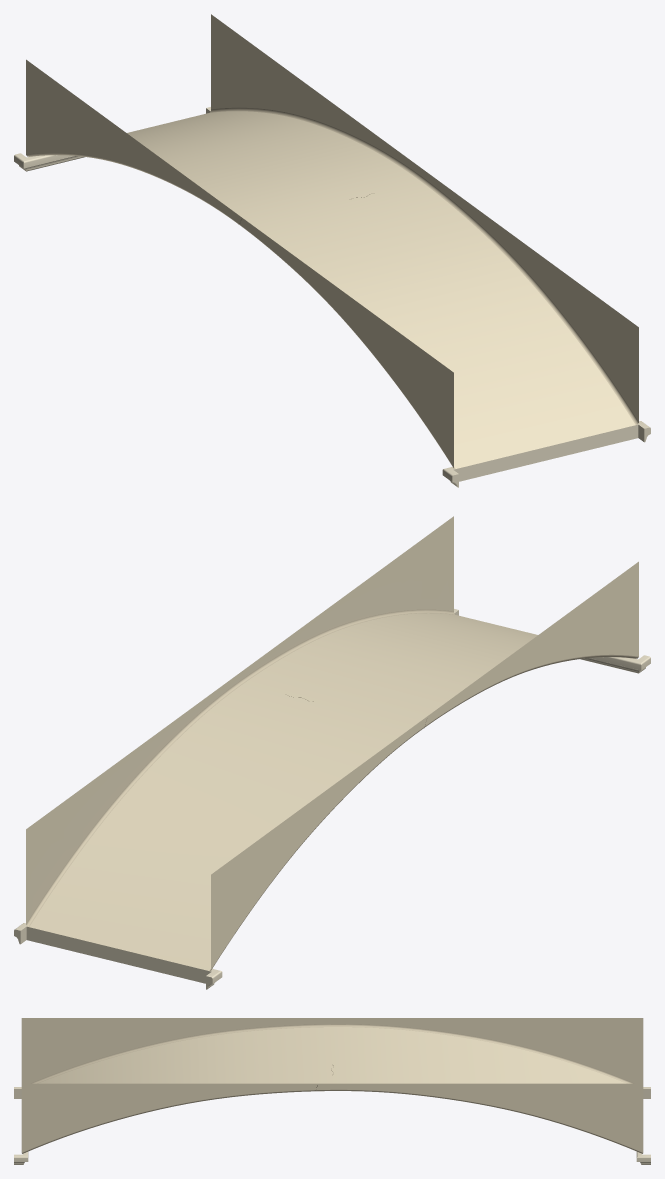
File: arch4.glb
3 renders of one model, top to bottom at view 1: azimuth 30°, elevation 25°; view 2: azimuth 150°, elevation 25°; view 3: azimuth 270°, elevation 25°, orthographic. The views are drawn at different scales.
Visible parts, largest first — view 1: bogen; view 2: bogen; view 3: bogen.
Boxes of the visible parts, left/top/right/bottom form: bogen: left=14, top=14, right=650, bottom=487; bogen: left=14, top=516, right=650, bottom=989; bogen: left=14, top=1018, right=650, bottom=1164.
Size of the model in its own units: 1.08 by 0.575 by 4.11.
